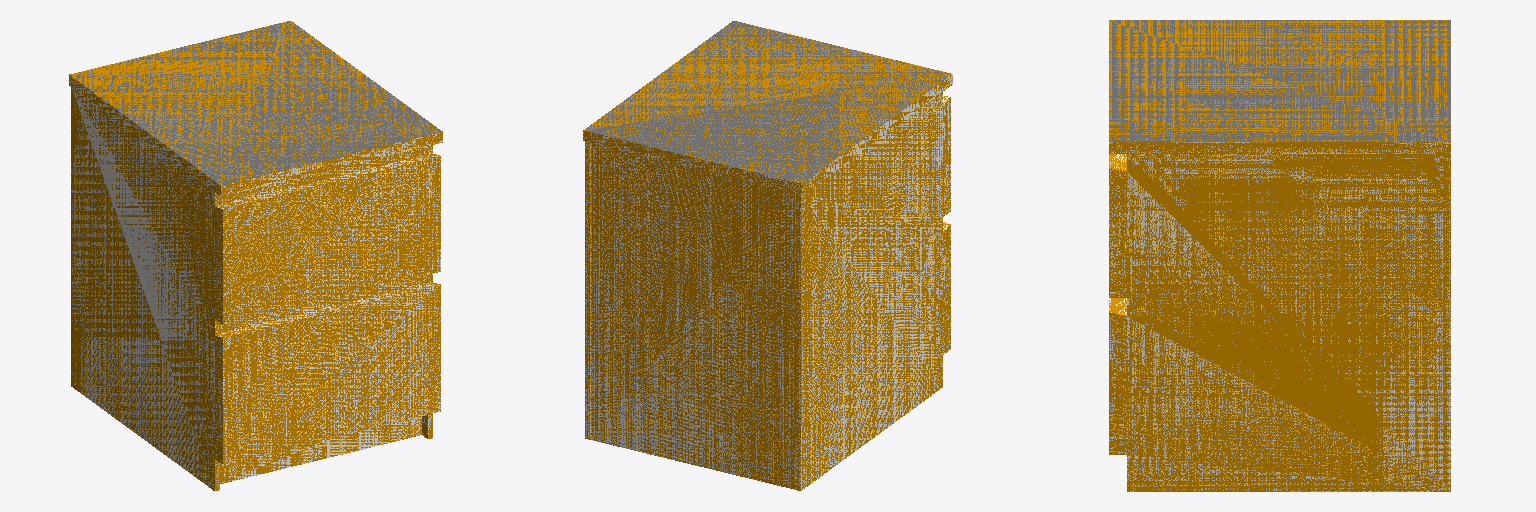
robot.urdf — my_object:
<?xml version="1.0" ?>
<robot name="my_object" static="true">
  <link name="base_link">
  <inertial>
    <mass value="1.0" />
    <origin xyz="0 0 0.0" />
    <inertia ixx="1.0" ixy="0.0" ixz="0.0" iyy="1.0" iyz="0.0" izz="1.0"/>
  </inertial>
  <visual>
   <origin xyz="0 0 0.0" rpy="0 0 0" />
   <geometry>
     <mesh filename="model://cabinet_ikea_malm_small/cabinet_ikea_malm_small.dae" />
   </geometry>
  </visual>
  <collision>
   <origin xyz="0 0 0.0" rpy="0 0 0" />
   <geometry>
	<!-- <box size="0.40 0.46 0.55" /> -->
     <mesh filename="model://cabinet_ikea_malm_small/cabinet_ikea_malm_small.dae" />
   </geometry>
  </collision>
  </link>

<gazebo>
	<static>true</static>
</gazebo>
</robot>

--- Facts derived from the render (not from the file) ---
3 views of the same robot in one strip: view 1: azimuth 30°, elevation 25°; view 2: azimuth 150°, elevation 25°; view 3: azimuth 270°, elevation 25° (orthographic).
Robot: my_object — 1 links, 0 joints (none); root link base_link; default pose: every joint at zero.
Visible links, largest first — view 1: base_link; view 2: base_link; view 3: base_link.
Boxes of the visible links, x1,y1,x2,y2 form: base_link: (69,21,442,490); base_link: (583,21,952,490); base_link: (1109,20,1450,491).
Size in the robot's own frame: 0.4088 by 0.486 by 0.5494 metres.
1 mesh visuals loaded from 1 distinct referenced files (1 Collada DAE).